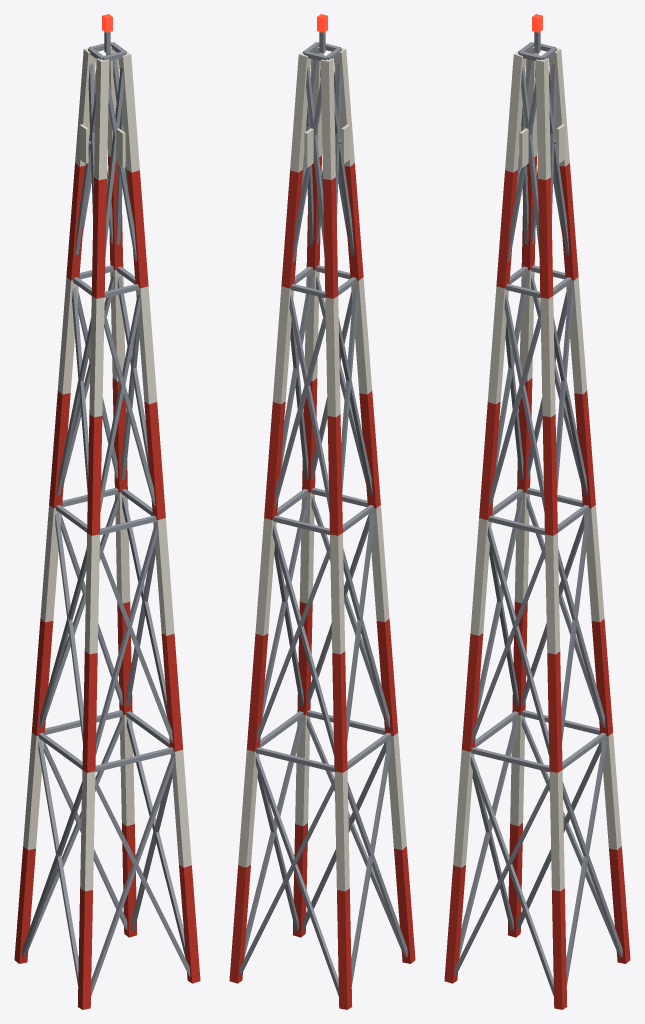
File: Kit_RadioMast.glb
3 renders of one model, left to right at view 1: azimuth 30°, elevation 25°; view 2: azimuth 150°, elevation 25°; view 3: azimuth 330°, elevation 25°, orthographic.
Parts seen in each view (by area): view 1: Kit_RadioMast; view 2: Kit_RadioMast; view 3: Kit_RadioMast.
Part boxes in pixels (x1,y1,x2,y2): Kit_RadioMast: (14, 14, 200, 1009); Kit_RadioMast: (229, 14, 415, 1009); Kit_RadioMast: (444, 14, 630, 1009).
Bounding box in the file's own units: 8.6 × 66.55 × 8.6.
